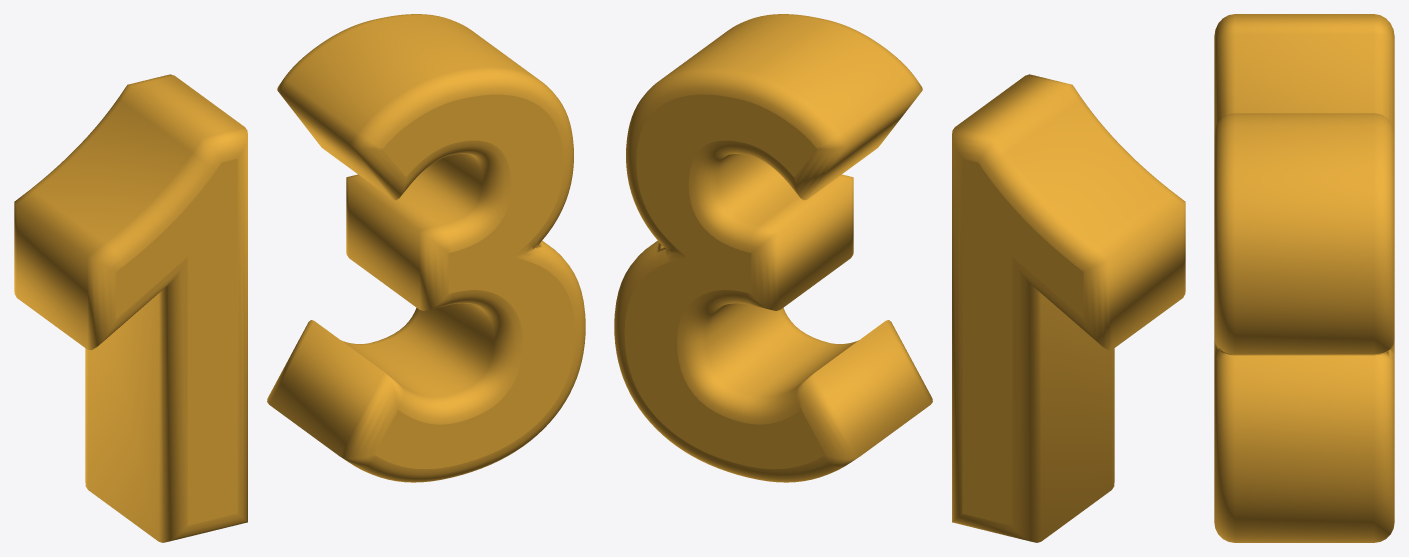
3 renders of one model, left to right at view 1: azimuth 30°, elevation 25°; view 2: azimuth 150°, elevation 25°; view 3: azimuth 270°, elevation 25°, orthographic.
Visible parts, largest first — view 1: Text; view 2: Text; view 3: Text.
Boxes of the visible parts, left/top/right/bottom form: Text: left=14, top=14, right=585, bottom=542; Text: left=614, top=14, right=1185, bottom=542; Text: left=1214, top=14, right=1394, bottom=542.
Size of the model in its own units: 81.03 by 63.02 by 26.
